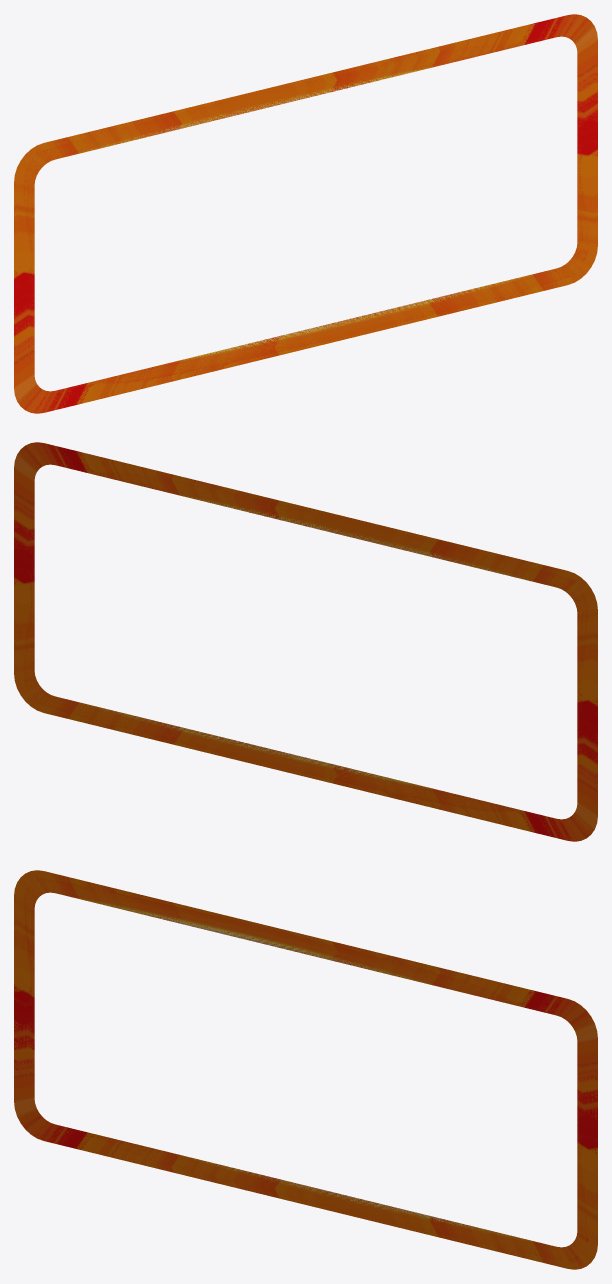
The model's file is newwar_debug.fbx.
3 renders of one model, top to bottom at view 1: azimuth 30°, elevation 25°; view 2: azimuth 150°, elevation 25°; view 3: azimuth 330°, elevation 25°, orthographic.
Visible parts, largest first — view 1: ggtj_light; view 2: ggtj_light; view 3: ggtj_light.
Part boxes in pixels (box(x1,y1,x2,y2)): ggtj_light: box(14, 14, 597, 413); ggtj_light: box(14, 442, 597, 841); ggtj_light: box(14, 870, 597, 1269).
Bounding box in the file's own units: 291 × 129 × 6.26e-14.
1 material, 1 textured.
